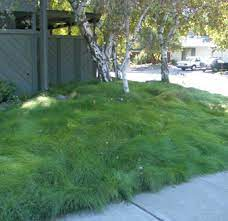grass: (2, 101, 228, 169)
